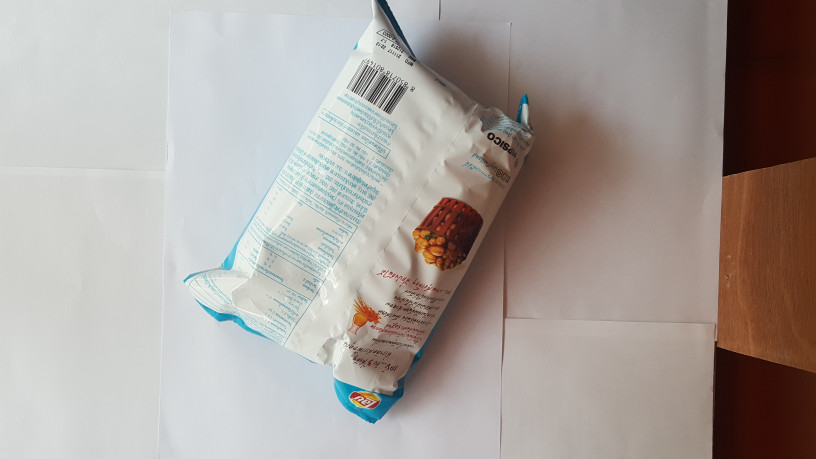lays-onion: (176, 1, 552, 431)
